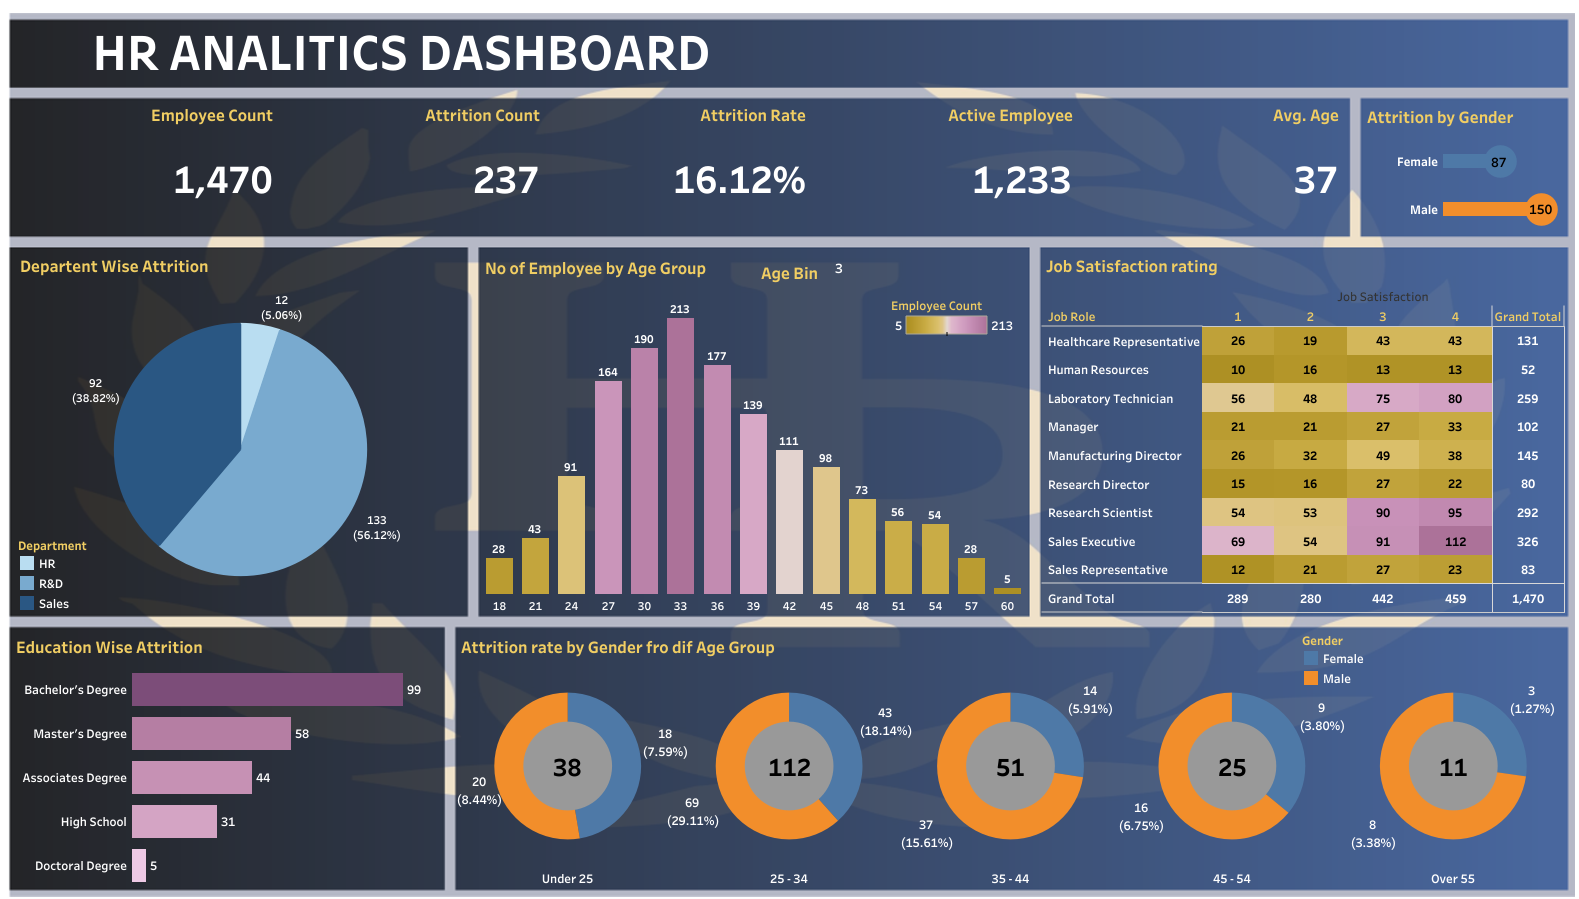

The dashboard page shown, as its layout file describes it:
{"tool":"tableau","page":{"name":"HR DASHBOARD","canvas":[1580,900],"ordinal":0},"visuals":[{"type":"image","param":"Image/HR background.pptx.png","box":[3,6,1572,898]},{"type":"text","box":[469,17,660,69]},{"type":"filter","title":"No of Employee by Age Group","param":"[federated.1ujiglx1r7rfp8105rz6l1e7iwr9].[none:Education:nk]","box":[1155,25,192,56]},{"type":"filter","title":"Departent Wise Attrition","param":"[federated.1ujiglx1r7rfp8105rz6l1e7iwr9].[none:Department:nk]","box":[1373,27,160,44]},{"type":"worksheet","title":"Attrition by Gender","mark":"Automatic","rows":["Gender"],"cols":["Calculation_1361213034598002688","Calculation_1361213034598002688"],"box":[1363,99,200,134]},{"type":"worksheet","title":"KPI","mark":"Automatic","box":[11,104,1332,128]},{"type":"worksheet","title":"Departent Wise Attrition","mark":"Pie","box":[16,248,449,365]},{"type":"worksheet","title":"Job Satisfaction rating","mark":"Square","rows":["Job Role"],"cols":["Job Satisfaction"],"box":[1042,248,523,365]},{"type":"worksheet","title":"No of Employee by Age Group","mark":"Automatic","rows":["Employee Count"],"cols":["Age (bin)"],"box":[481,250,545,364]},{"type":"parameter","param":"[Parameters].[Parameter 1]","box":[761,258,261,28]},{"type":"legend","title":"No of Employee by Age Group","param":"[federated.1ujiglx1r7rfp8105rz6l1e7iwr9].[sum:Employee Count:qk]","box":[891,292,127,47]},{"type":"legend","title":"Departent Wise Attrition","param":"[federated.1ujiglx1r7rfp8105rz6l1e7iwr9].[none:Department:nk]","box":[17,534,89,78]},{"type":"worksheet","title":"Education Wise Attrition","mark":"Automatic","rows":["Education"],"cols":["Calculation_1361213034598002688"],"box":[12,629,429,258]},{"type":"worksheet","title":"Attrition rate by Gender fro dif Age Group ","mark":"Pie","rows":["Calculation_1361213034627297284","Calculation_1361213034627297284"],"cols":["CF_age band"],"box":[457,629,1107,258]},{"type":"legend","title":"Attrition rate by Gender fro dif Age Group ","param":"[federated.1ujiglx1r7rfp8105rz6l1e7iwr9].[none:Gender:nk]","box":[893,635,333,28]}]}

Visuals, with their boxes in screenshot pixels (x1, y1, x2, y2), scaled from the page's 1580x900 canvas onto the 1579x899 screenshot:
image: (x1=3, y1=6, x2=1574, y2=898)
text: (x1=469, y1=17, x2=1128, y2=86)
"No of Employee by Age Group" filter: (x1=1154, y1=25, x2=1346, y2=81)
"Departent Wise Attrition" filter: (x1=1372, y1=27, x2=1532, y2=71)
"Attrition by Gender" worksheet: (x1=1362, y1=99, x2=1562, y2=233)
"KPI" worksheet: (x1=11, y1=104, x2=1342, y2=232)
"Departent Wise Attrition" worksheet (Pie marks): (x1=16, y1=248, x2=465, y2=612)
"Job Satisfaction rating" worksheet (Square marks): (x1=1041, y1=248, x2=1564, y2=612)
"No of Employee by Age Group" worksheet: (x1=481, y1=250, x2=1025, y2=613)
parameter: (x1=761, y1=258, x2=1021, y2=286)
"No of Employee by Age Group" legend: (x1=890, y1=292, x2=1017, y2=339)
"Departent Wise Attrition" legend: (x1=17, y1=533, x2=106, y2=611)
"Education Wise Attrition" worksheet: (x1=12, y1=628, x2=441, y2=886)
"Attrition rate by Gender fro dif Age Group " worksheet (Pie marks): (x1=457, y1=628, x2=1563, y2=886)
"Attrition rate by Gender fro dif Age Group " legend: (x1=892, y1=634, x2=1225, y2=662)
